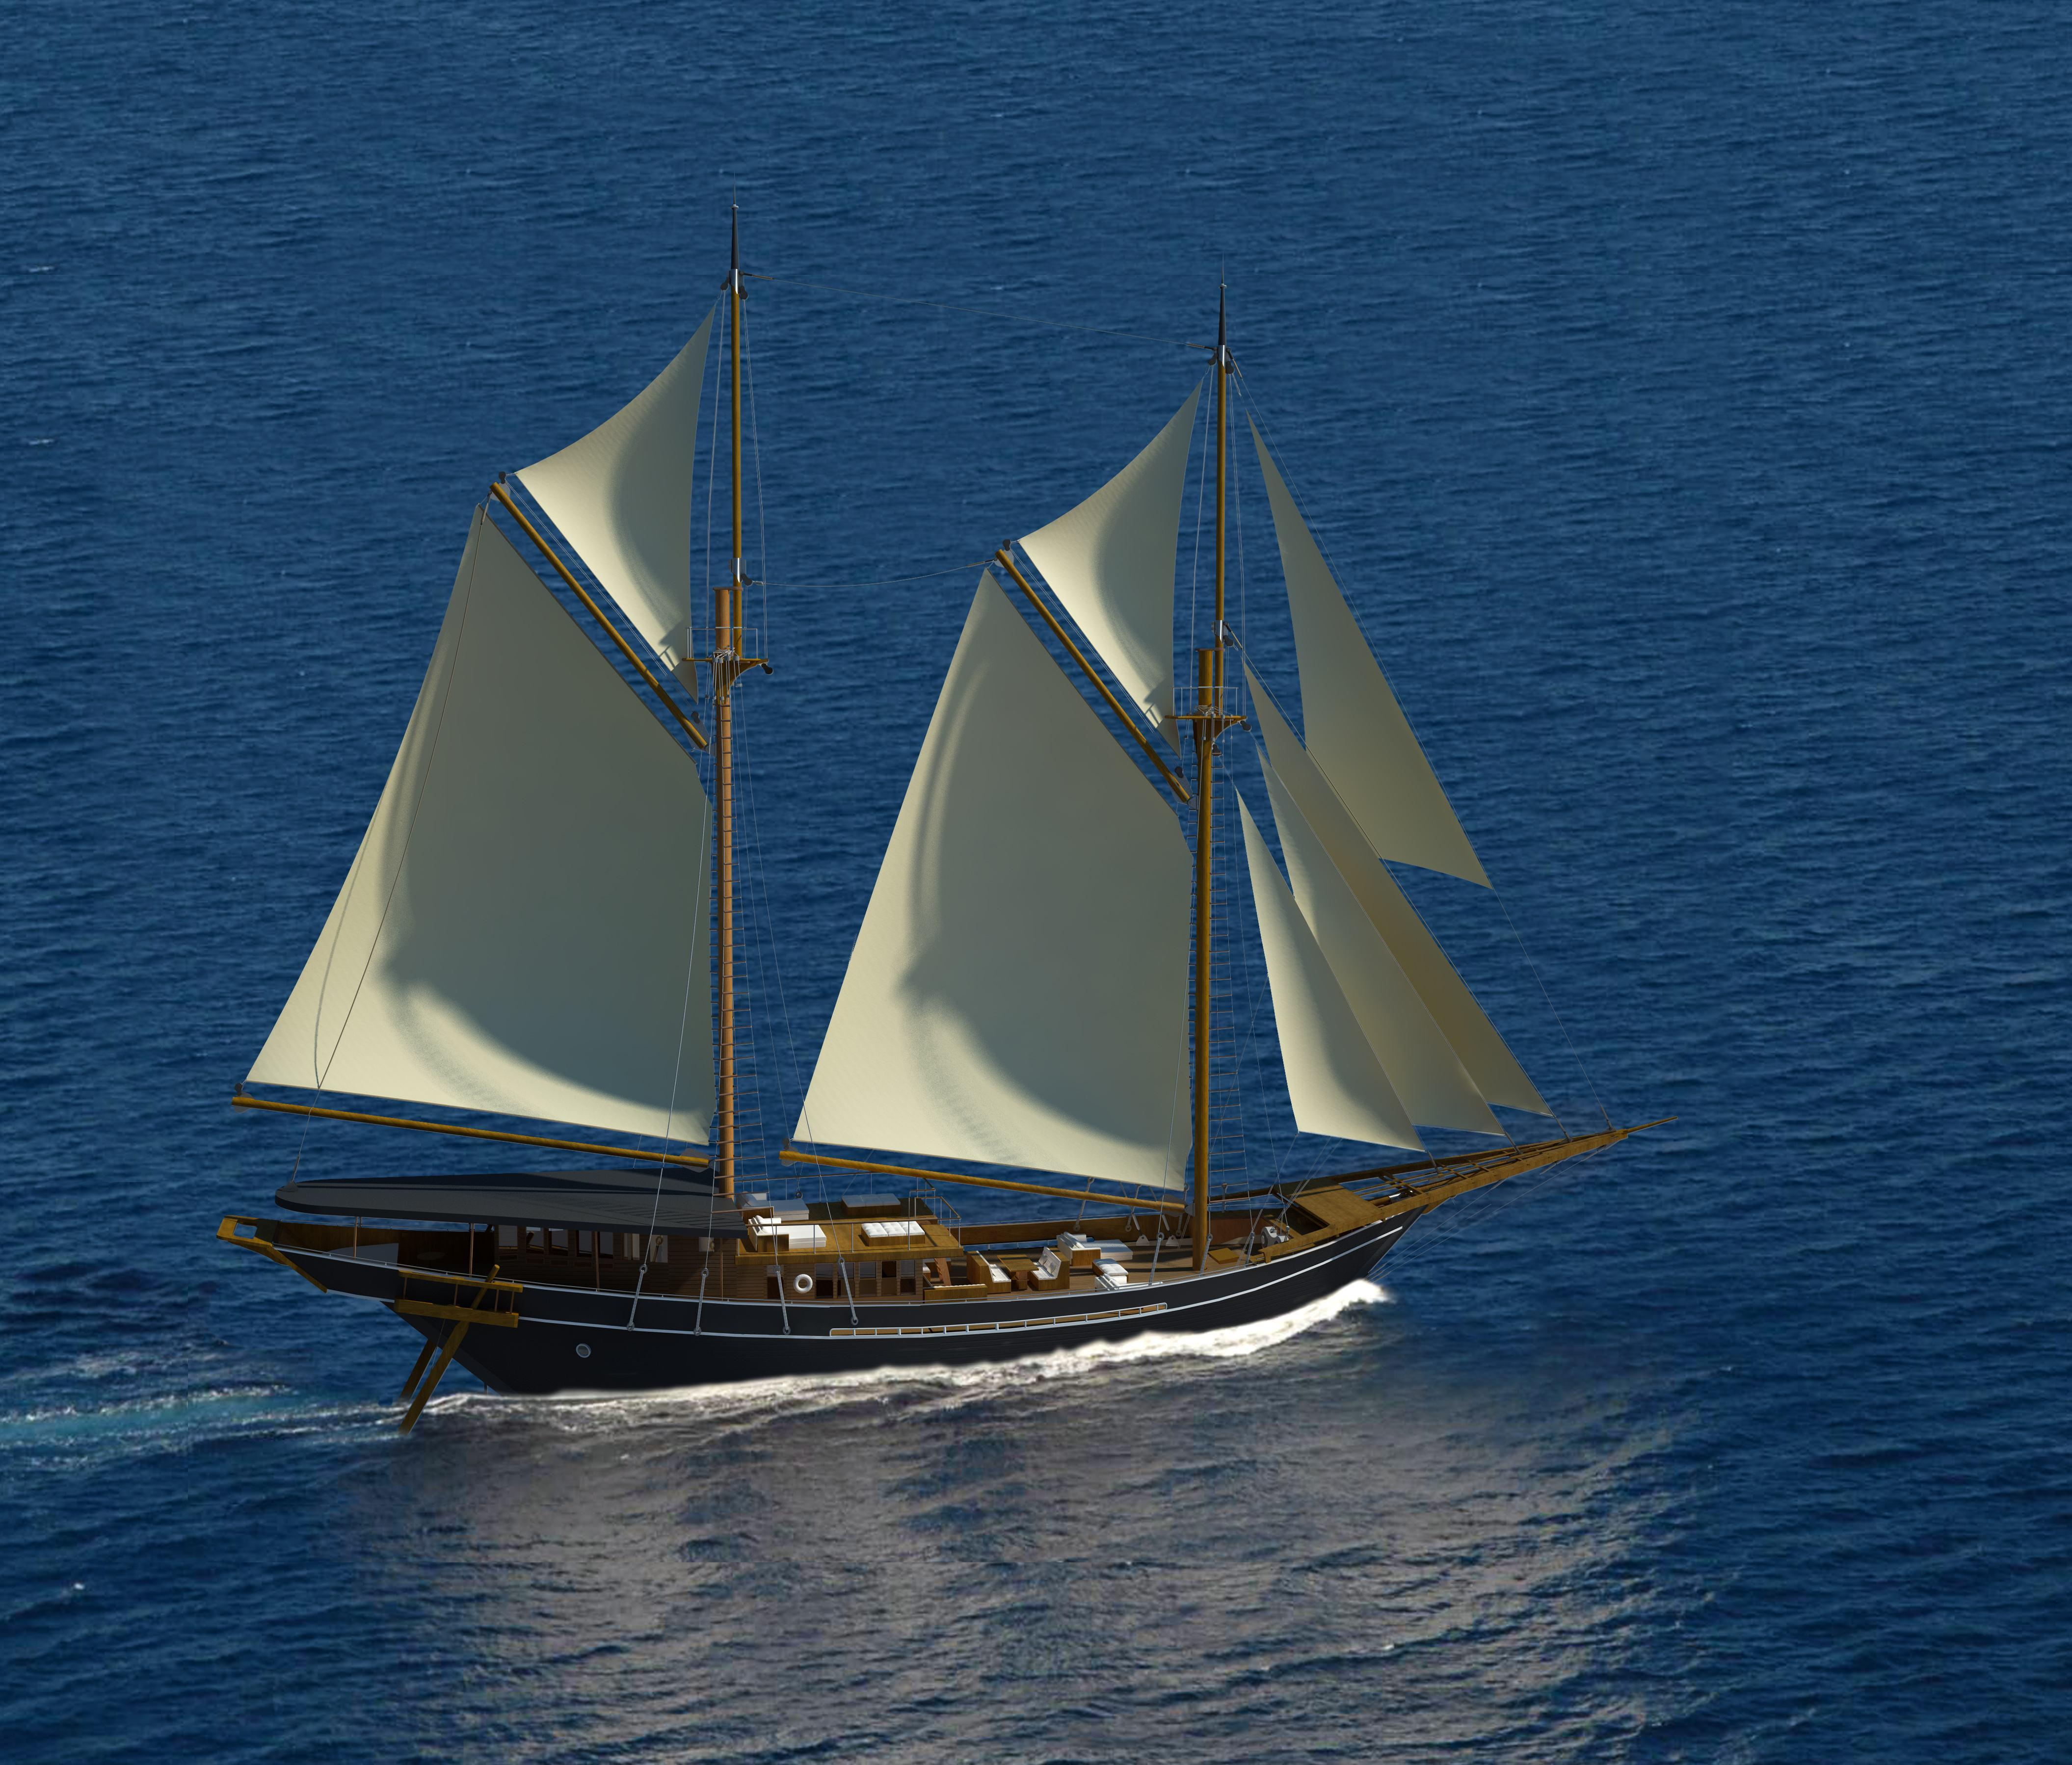fanchuan: (208, 186, 1664, 1338)
